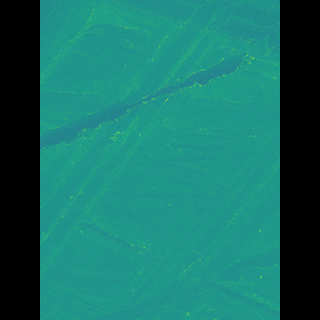Loch: (70, 0, 219, 288), (115, 74, 249, 320), (69, 44, 229, 153), (68, 0, 118, 85)
